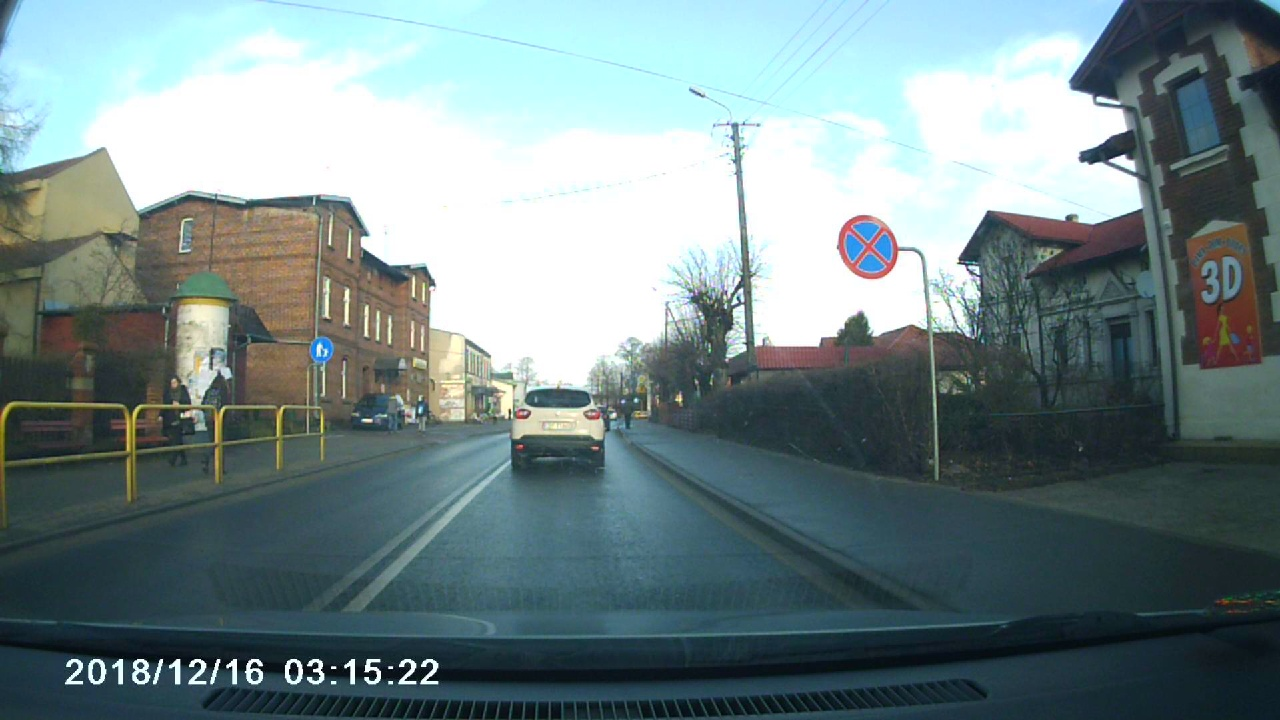B35: (832, 210, 906, 281)
